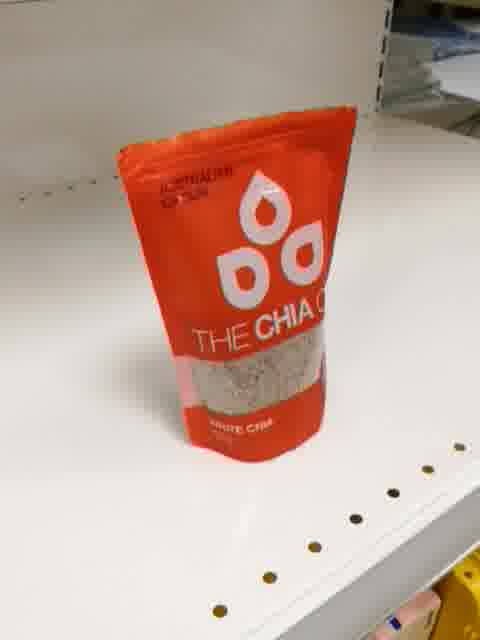whitechia: (115, 105, 360, 463)
